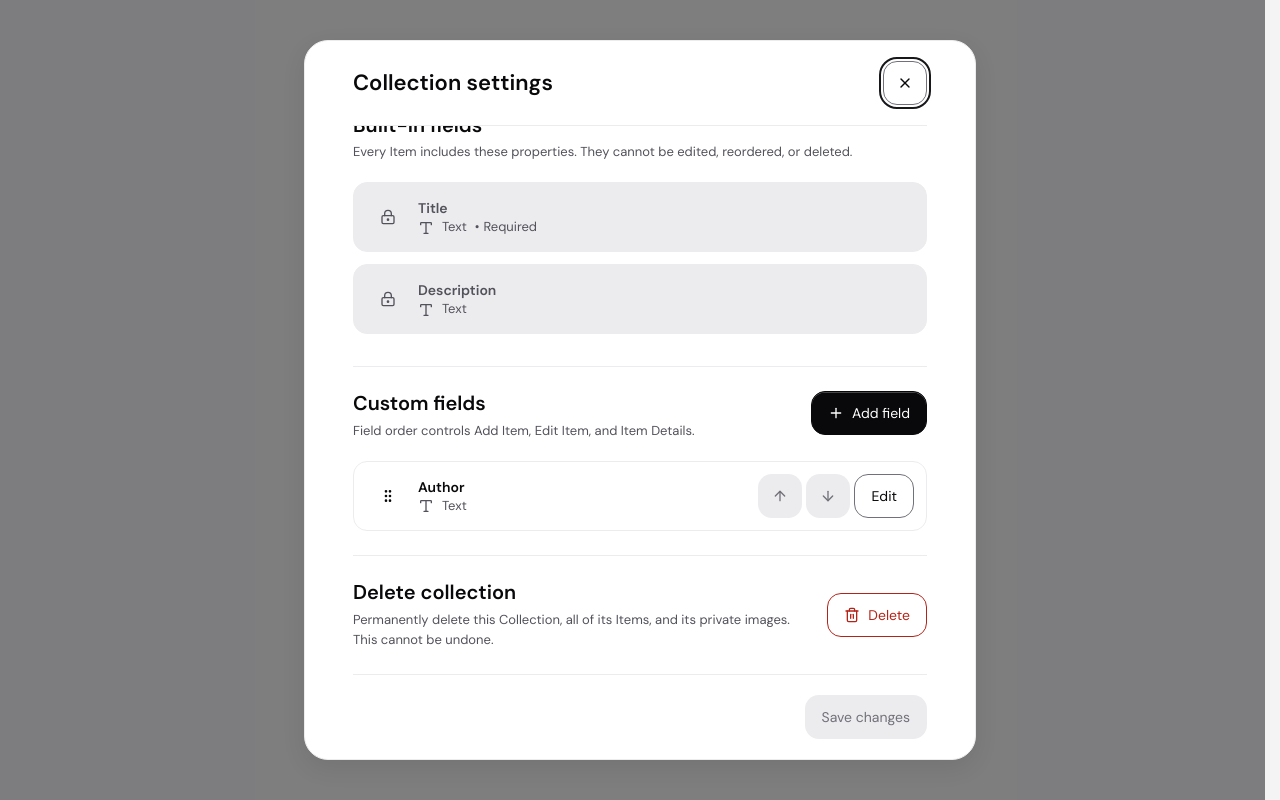
Collection Settings Add Field step › deletes from the editor's danger section with impact confirmation
The image size is (1280, 800).
(page scrolled)
Click the button with aria-label "Edit Author".
click(884, 496)  # box [854,474,914,518]
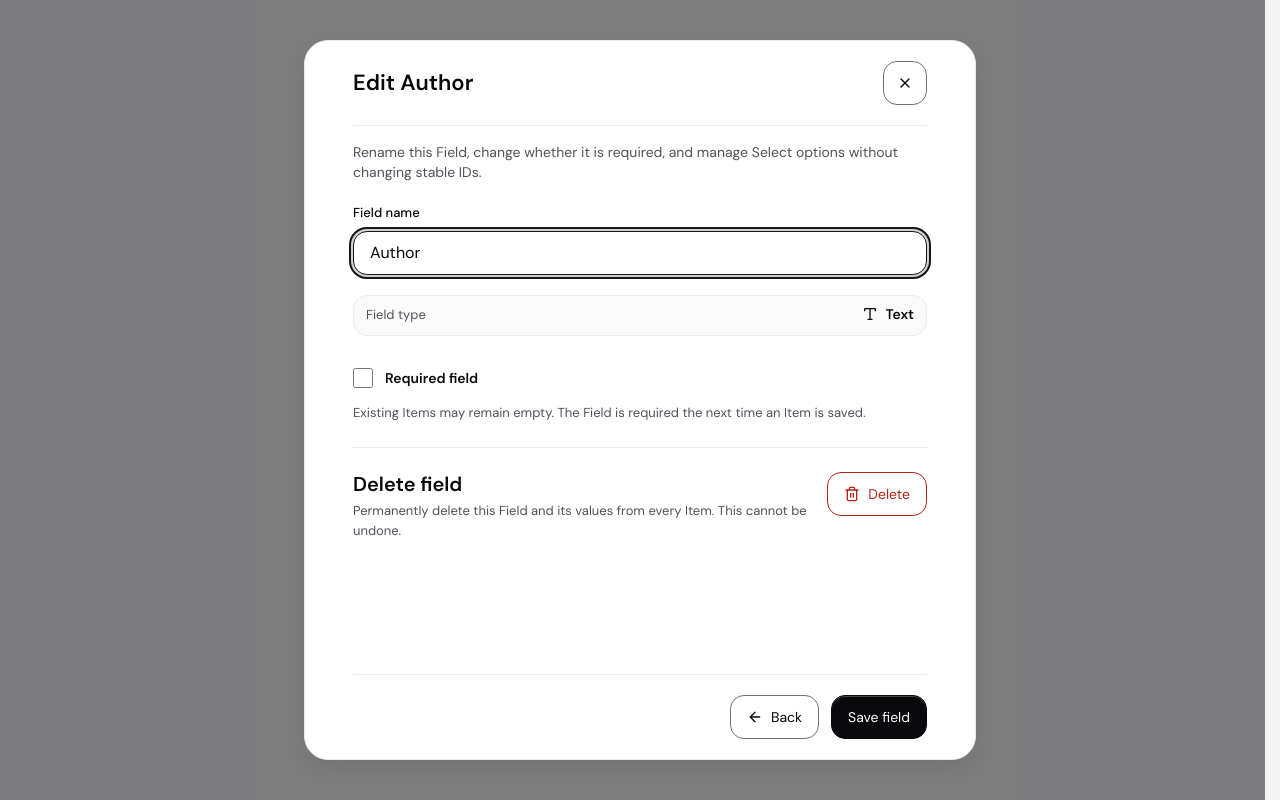
expect the heading "Delete field" is shown: met, box [353,471,462,497]
Click the button with aria-label "Delete Author".
click(877, 494)  # box [827,472,927,516]
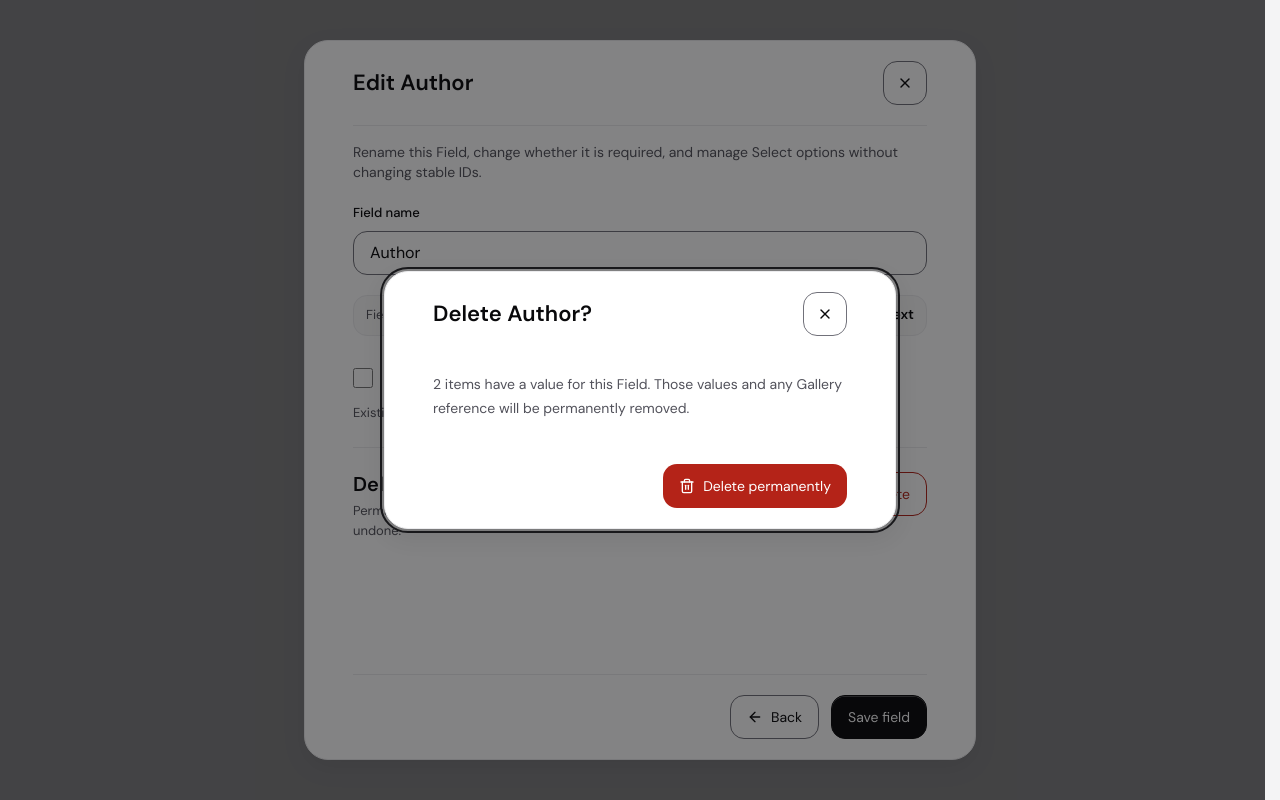
expect the text "2 items have a value" is shown: met, box [433,375,842,417]
Click the button "Delete permanently".
click(755, 486)  # box [663,464,847,508]
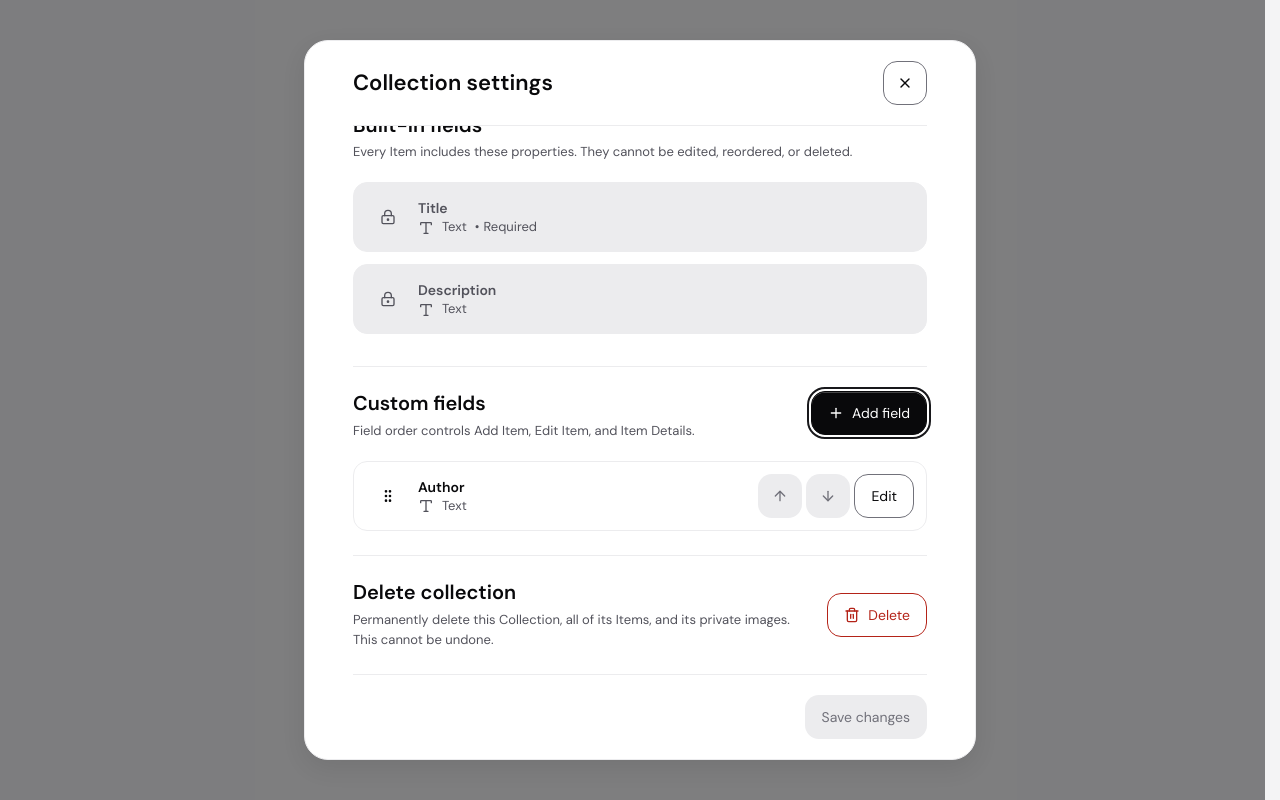
expect the dialog "Collection settings" is shown: met, box [304,40,976,760]
